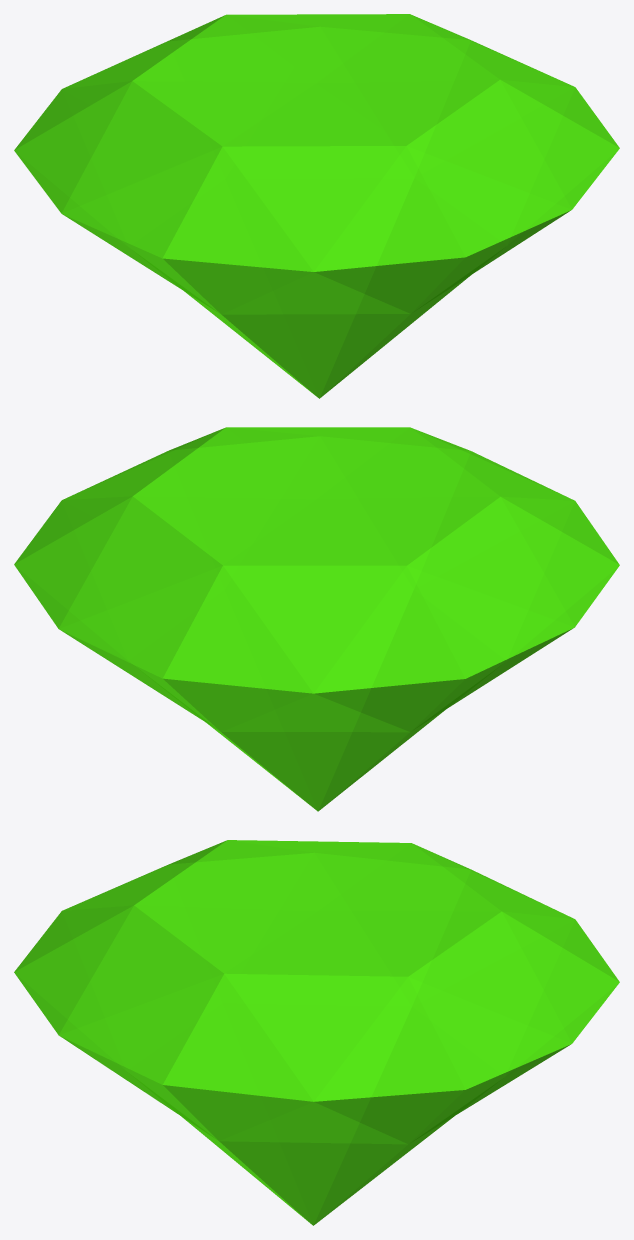
Rendered from Emerald.fbx.
The picture shows the model from 3 angles, top to bottom: view 1: azimuth 30°, elevation 25°; view 2: azimuth 150°, elevation 25°; view 3: azimuth 270°, elevation 25°; orthographic projection.
Visible parts, largest first — view 1: pasted__pSphere1; view 2: pasted__pSphere1; view 3: pasted__pSphere1.
Boxes of the visible parts, box(x1,y1,x2,y2) form: pasted__pSphere1: box(14, 14, 619, 398); pasted__pSphere1: box(14, 427, 619, 811); pasted__pSphere1: box(14, 840, 619, 1225).
Bounding box in the file's own units: 1.61 × 0.9544 × 1.64.
